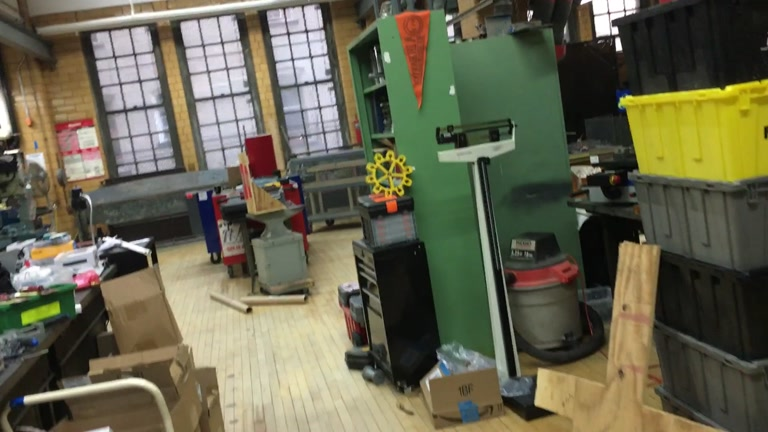gear: (364, 148, 412, 198)
